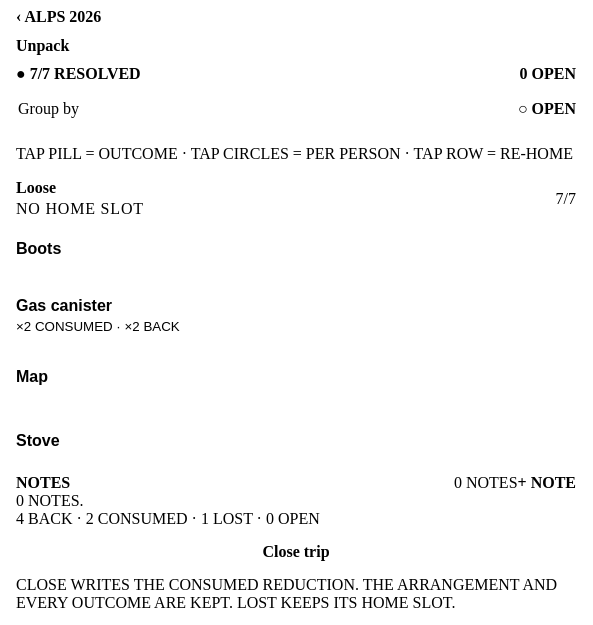
the close card (F11, spec §4.7) › withdraws the button the instant its own tap closes the Trip — no second tap is possible
What coordinates should you click on to do the following:
click the button "Close trip"
I would click on:
 (296, 552)
Its box is [16,528,576,576].
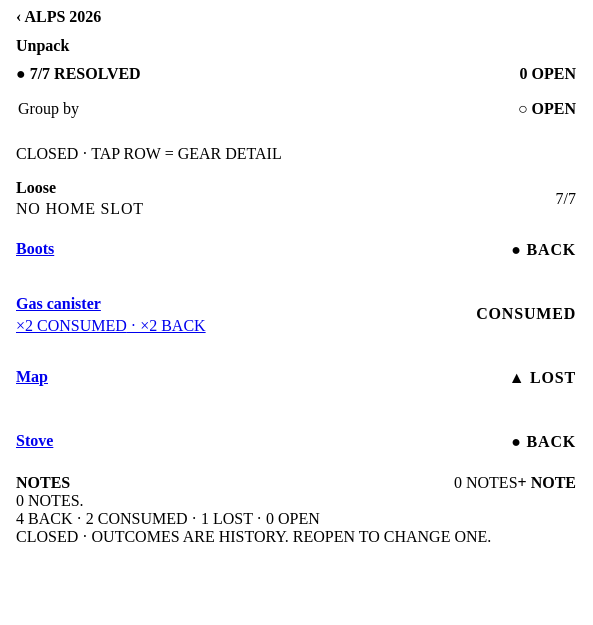
Expected: the element with test id "unpack-close-summary" reads "4 BACK · 2 CONSUMED · 1 LOST · 0 OPEN", [16,510,320,527]
Expected: the button "Close trip" is gone
Expected: the text "CLOSE WRITES THE CONSUMED REDUCTION. THE ARRANGEMENT AND EVERY OUTCOME ARE KEPT. LOST KEEPS ITS HOME SLOT." is gone
